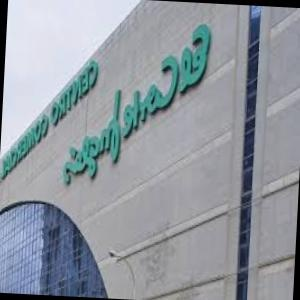corte_ingles: (89, 53, 300, 74)
